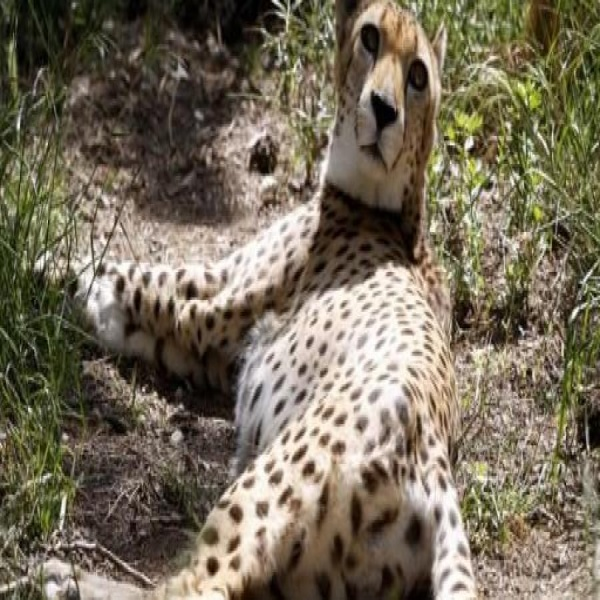Cheetah: (29, 1, 482, 600)
